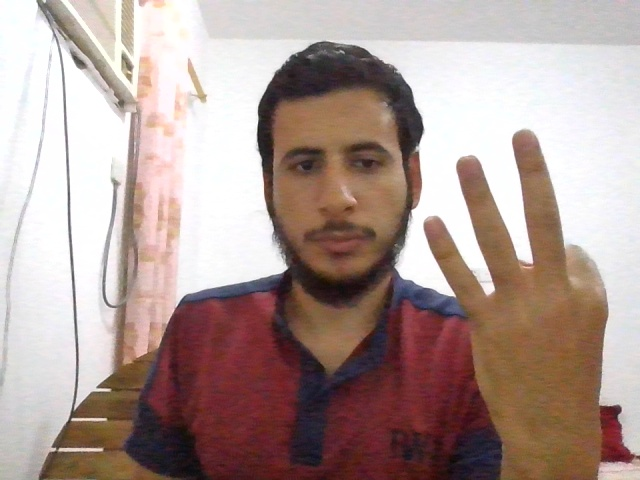Three: (423, 129, 609, 451)
